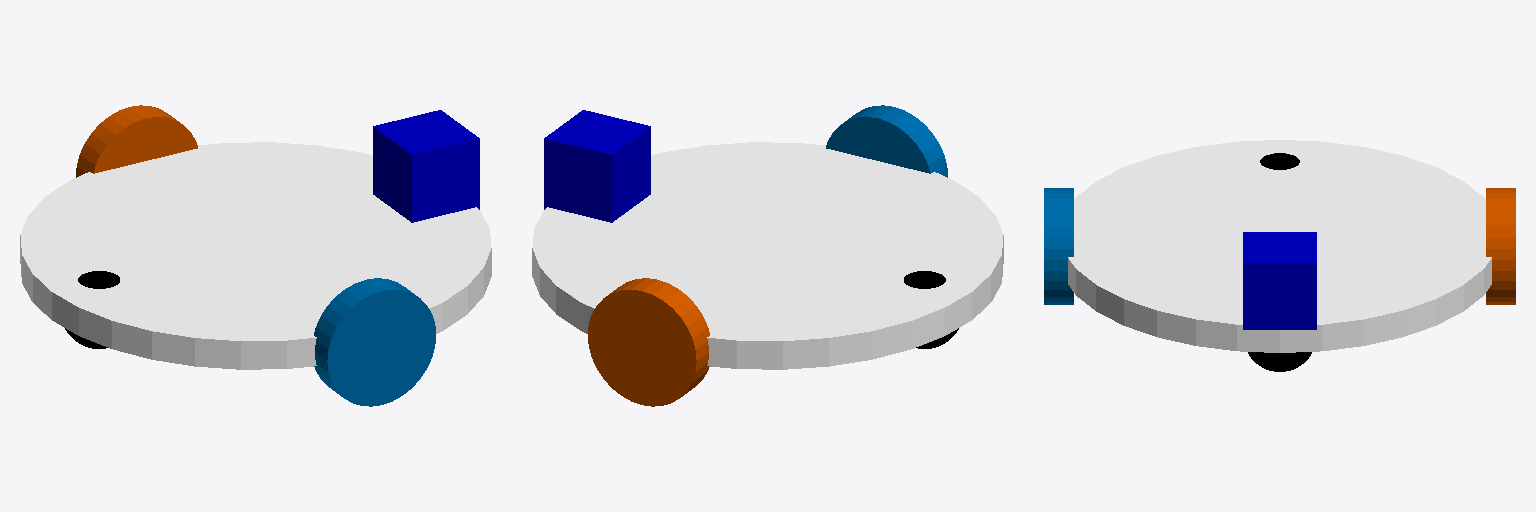
robot.urdf — differential_wheeled_robot:
<?xml version="1.0" ?>
<!-- =================================================================================== -->
<!-- |    This document was autogenerated by xacro from diff_wheeled_robot_with_laser.xacro | -->
<!-- |    EDITING THIS FILE BY HAND IS NOT RECOMMENDED                                 | -->
<!-- =================================================================================== -->
<robot name="differential_wheeled_robot">
  <!-- in kg-->
  <!-- Defining the colors used in this robot -->
  <material name="Black">
    <color rgba="0.0 0.0 0.0 1.0"/>
  </material>
  <material name="Red">
    <color rgba="0.8 0.0 0.0 1.0"/>
  </material>
  <material name="White">
    <color rgba="1.0 1.0 1.0 1.0"/>
  </material>
  <material name="Blue">
    <color rgba="0.0 0.0 0.8 1.0"/>
  </material>
  <!-- in kg-->
  <!-- in kg-->
   --&gt; 
  <!-- BASE-FOOTPRINT -->
  <!-- base_footprint is a fictitious link(frame) that is on the ground right below base_link origin -->
  <link name="base_footprint">
    <inertial>
      <mass value="0.0001"/>
      <origin xyz="0 0 0"/>
      <inertia ixx="0.0001" ixy="0.0" ixz="0.0" iyy="0.0001" iyz="0.0" izz="0.0001"/>
    </inertial>
    <visual>
      <origin rpy="0 0 0" xyz="0 0 0"/>
      <geometry>
        <box size="0.001 0.001 0.001"/>
      </geometry>
    </visual>
  </link>
  <gazebo reference="base_footprint">
    <turnGravityOff>false</turnGravityOff>
  </gazebo>
  <joint name="base_footprint_joint" type="fixed">
    <origin rpy="0 0 0" xyz="0 0 0.04"/>
    <parent link="base_footprint"/>
    <child link="base_link"/>
  </joint>
  <link name="base_link">
    <inertial>
      <mass value="5.0"/>
      <origin xyz="0 0 0"/>
      <inertia ixx="0.0001" ixy="0.0" ixz="0.0" iyy="0.0001" iyz="0.0" izz="0.0001"/>
      <cylinder_inertia h="0.02" m="5.0" r="0.15"/>
    </inertial>
    <visual>
      <origin rpy="0 0 0" xyz="0 0 0"/>
      <geometry>
        <cylinder length="0.02" radius="0.15"/>
      </geometry>
      <material name="White"/>
    </visual>
    <collision>
      <origin rpy="0 0 0 " xyz="0 0 0"/>
      <geometry>
        <cylinder length="0.02" radius="0.15"/>
      </geometry>
    </collision>
  </link>
  <gazebo reference="base_link">
    <material>Gazebo/White</material>
    <turnGravityOff>false</turnGravityOff>
  </gazebo>
  <link name="caster_front_link">
    <visual>
      <origin rpy="1.5707963267948966 0 0" xyz="0 0.02 0"/>
      <geometry>
        <sphere radius="0.025"/>
      </geometry>
      <material name="Black"/>
    </visual>
    <collision>
      <geometry>
        <sphere radius="0.025"/>
      </geometry>
      <origin rpy="1.5707963267948966 0 0" xyz="0 0.02 0"/>
    </collision>
    <inertial>
      <mass value="0.5"/>
      <origin xyz="0 0 0"/>
      <inertia ixx="0.001" ixy="0.0" ixz="0.0" iyy="0.001" iyz="0.0" izz="0.001"/>
    </inertial>
  </link>
  <joint name="caster_front_joint" type="fixed">
    <parent link="base_link"/>
    <child link="caster_front_link"/>
    <origin rpy="-1.5707963267948966 0 0" xyz="0.115 0.0 0.007"/>
  </joint>
  <gazebo reference="caster_front_link">
    <turnGravityOff>false</turnGravityOff>
  </gazebo>
  <link name="caster_back_link">
    <visual>
      <origin rpy="1.5707963267948966 0 0" xyz="0.02 0.02 0 "/>
      <geometry>
        <sphere radius="0.025"/>
      </geometry>
      <material name="Black"/>
    </visual>
    <collision>
      <geometry>
        <sphere radius="0.025"/>
      </geometry>
      <origin rpy="1.5707963267948966 0 0" xyz="0 0.02 0 "/>
    </collision>
    <inertial>
      <mass value="0.5"/>
      <origin xyz="0 0 0"/>
      <inertia ixx="0.001" ixy="0.0" ixz="0.0" iyy="0.001" iyz="0.0" izz="0.001"/>
    </inertial>
  </link>
  <joint name="caster_back_joint" type="fixed">
    <parent link="base_link"/>
    <child link="caster_back_link"/>
    <origin rpy="-1.5707963267948966 0 0" xyz="-0.135 0.0 0.009"/>
  </joint>
  <gazebo reference="caster_back_link">
    <turnGravityOff>false</turnGravityOff>
  </gazebo>
  <!--fb : front, back ; lr: left, right -->
  <link name="front_right_wheel">
    <visual>
      <origin rpy="1.5707963267948966 0  0 " xyz="0 0 0"/>
      <geometry>
        <cylinder length="0.02" radius="0.04"/>
      </geometry>
      <material name="DarkGray"/>
    </visual>
    <collision>
      <origin rpy="1.5707963267948966 0 0 " xyz="0 0 0"/>
      <geometry>
        <cylinder length="0.02" radius="0.04"/>
      </geometry>
    </collision>
    <inertial>
      <mass value="2.5"/>
      <origin xyz="0 0 0"/>
      <inertia ixx="0.001" ixy="0.0" ixz="0.0" iyy="0.001" iyz="0.0" izz="0.001"/>
    </inertial>
  </link>
  <gazebo reference="front_right_wheel">
    <mu1 value="1.0"/>
    <mu2 value="1.0"/>
    <kp value="10000000.0"/>
    <kd value="1.0"/>
    <fdir1 value="1 0 0"/>
    <material>Gazebo/Grey</material>
    <turnGravityOff>false</turnGravityOff>
  </gazebo>
  <joint name="front_right_wheel_joint" type="continuous">
    <parent link="base_link"/>
    <child link="front_right_wheel"/>
    <origin rpy="0 0 0" xyz="0.0 -0.15 0.0"/>
    <axis rpy="0 0 0" xyz="0 1 0"/>
    <limit effort="100" velocity="100"/>
    <joint_properties damping="0.0" friction="0.0"/>
  </joint>
  <!-- Transmission is important to link the joints and the controller -->
  <transmission name="front_right_wheel_joint_trans">
    <type>transmission_interface/SimpleTransmission</type>
    <joint name="front_right_wheel_joint"/>
    <actuator name="front_right_wheel_joint_motor">
      <hardwareInterface>EffortJointInterface</hardwareInterface>
      <mechanicalReduction>1</mechanicalReduction>
    </actuator>
  </transmission>
  <!--fb : front, back ; lr: left, right -->
  <link name="front_left_wheel">
    <visual>
      <origin rpy="1.5707963267948966 0  0 " xyz="0 0 0"/>
      <geometry>
        <cylinder length="0.02" radius="0.04"/>
      </geometry>
      <material name="DarkGray"/>
    </visual>
    <collision>
      <origin rpy="1.5707963267948966 0 0 " xyz="0 0 0"/>
      <geometry>
        <cylinder length="0.02" radius="0.04"/>
      </geometry>
    </collision>
    <inertial>
      <mass value="2.5"/>
      <origin xyz="0 0 0"/>
      <inertia ixx="0.001" ixy="0.0" ixz="0.0" iyy="0.001" iyz="0.0" izz="0.001"/>
    </inertial>
  </link>
  <gazebo reference="front_left_wheel">
    <mu1 value="1.0"/>
    <mu2 value="1.0"/>
    <kp value="10000000.0"/>
    <kd value="1.0"/>
    <fdir1 value="1 0 0"/>
    <material>Gazebo/Grey</material>
    <turnGravityOff>false</turnGravityOff>
  </gazebo>
  <joint name="front_left_wheel_joint" type="continuous">
    <parent link="base_link"/>
    <child link="front_left_wheel"/>
    <origin rpy="0 0 0" xyz="0.0 0.15 0.0"/>
    <axis rpy="0 0 0" xyz="0 1 0"/>
    <limit effort="100" velocity="100"/>
    <joint_properties damping="0.0" friction="0.0"/>
  </joint>
  <!-- Transmission is important to link the joints and the controller -->
  <transmission name="front_left_wheel_joint_trans">
    <type>transmission_interface/SimpleTransmission</type>
    <joint name="front_left_wheel_joint"/>
    <actuator name="front_left_wheel_joint_motor">
      <hardwareInterface>EffortJointInterface</hardwareInterface>
      <mechanicalReduction>1</mechanicalReduction>
    </actuator>
  </transmission>
  <gazebo>
    <plugin filename="libgazebo_ros_diff_drive.so" name="differential_drive_controller">
      <legacyMode>true</legacyMode>
      <rosDebugLevel>Debug</rosDebugLevel>
      <publishWheelTF>false</publishWheelTF>
      <robotNamespace>/</robotNamespace>
      <publishTf>1</publishTf>
      <publishWheelJointState>false</publishWheelJointState>
      <alwaysOn>true</alwaysOn>
      <updateRate>100.0</updateRate>
      <leftJoint>front_left_wheel_joint</leftJoint>
      <rightJoint>front_right_wheel_joint</rightJoint>
      <wheelSeparation>0.3</wheelSeparation>
      <wheelDiameter>0.08</wheelDiameter>
      <broadcastTF>1</broadcastTF>
      <wheelTorque>30</wheelTorque>
      <wheelAcceleration>1.8</wheelAcceleration>
      <commandTopic>cmd_vel</commandTopic>
      <odometryFrame>odom</odometryFrame>
      <odometryTopic>odom</odometryTopic>
      <robotBaseFrame>base_footprint</robotBaseFrame>
    </plugin>
  </gazebo>
  <link name="laser_link">
    <visual>
      <origin rpy="0 0 0" xyz="0 0 0"/>
      <geometry>
        <box size="0.05 0.05 0.05"/>
      </geometry>
      <material name="Blue"/>
    </visual>
  </link>
  <joint name="hokuyo_joint" type="fixed">
    <origin rpy="0 0 0" xyz="0.125 0 0.0325"/>
    <parent link="base_link"/>
    <child link="laser_link"/>
  </joint>
  <gazebo reference="laser_link">
    <material>Gazebo/Blue</material>
    <turnGravityOff>false</turnGravityOff>
    <sensor name="head_hokuyo_sensor" type="ray">
      <pose>0.025 0 0 0 0 0</pose>
      <visualize>true</visualize>
      <update_rate>40</update_rate>
      <ray>
        <scan>
          <horizontal>
            <samples>720</samples>
            <resolution>1</resolution>
            <min_angle>-1.570796</min_angle>
            <max_angle>1.570796</max_angle>
          </horizontal>
        </scan>
        <range>
          <min>0.10</min>
          <max>10.0</max>
          <resolution>0.001</resolution>
        </range>
      </ray>
      <plugin filename="libgazebo_ros_laser.so" name="gazebo_ros_head_hokuyo_controller">
        <topicName>/scan</topicName>
        <frameName>laser_link</frameName>
      </plugin>
    </sensor>
  </gazebo>
</robot>

--- Render facts (derived) ---
3 views of the same robot in one strip: view 1: azimuth 30°, elevation 25°; view 2: azimuth 150°, elevation 25°; view 3: azimuth 270°, elevation 25° (orthographic).
Robot: differential_wheeled_robot — 7 links, 6 joints (2 continuous, 4 fixed); root link base_footprint; default pose: all joints at 0.
Links seen in each view (by area): view 1: base_link, front_right_wheel, laser_link, front_left_wheel, caster_back_link; view 2: base_link, front_left_wheel, laser_link, front_right_wheel, caster_back_link; view 3: base_link, laser_link, front_right_wheel, front_left_wheel, caster_front_link, caster_back_link.
Boxes of the visible links, <box> form: base_link: <box>20,142,491,369</box>; front_right_wheel: <box>314,278,435,406</box>; laser_link: <box>373,110,479,222</box>; front_left_wheel: <box>76,105,197,177</box>; caster_back_link: <box>65,271,119,348</box>; base_link: <box>532,142,1003,369</box>; front_left_wheel: <box>588,278,709,406</box>; laser_link: <box>544,110,650,222</box>; front_right_wheel: <box>826,105,947,177</box>; caster_back_link: <box>904,271,958,348</box>; base_link: <box>1068,140,1491,352</box>; laser_link: <box>1243,232,1316,329</box>; front_right_wheel: <box>1044,188,1073,304</box>; front_left_wheel: <box>1486,188,1515,304</box>; caster_front_link: <box>1248,352,1311,371</box>; caster_back_link: <box>1260,153,1299,169</box>.
Bounding box of the posed robot: 0.3 × 0.32 × 0.098 m (x, y, z).
Geometry: primitives only (box / cylinder / sphere), no mesh files.
